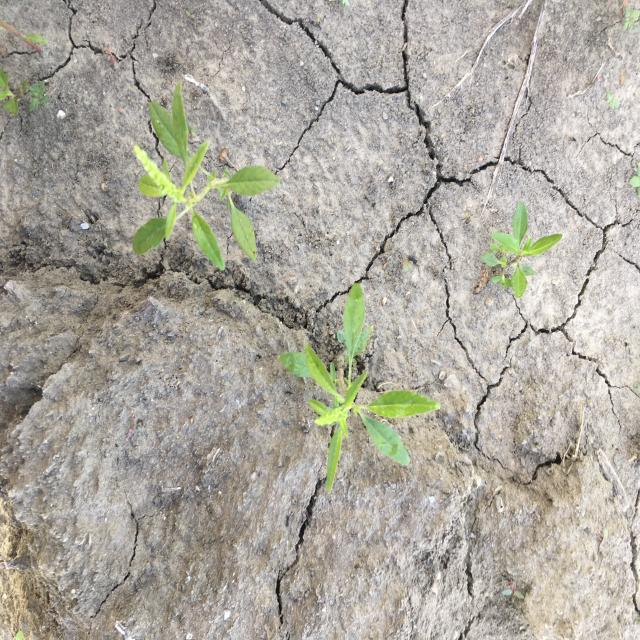Eclipta: (482, 200, 564, 300)
Waterhemp: (275, 280, 442, 497), (131, 80, 281, 271)
